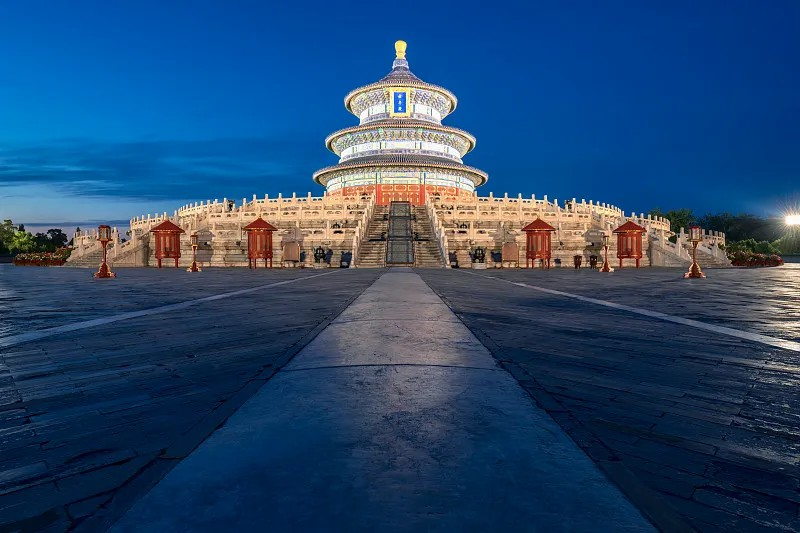Heaven: (312, 39, 489, 204)
